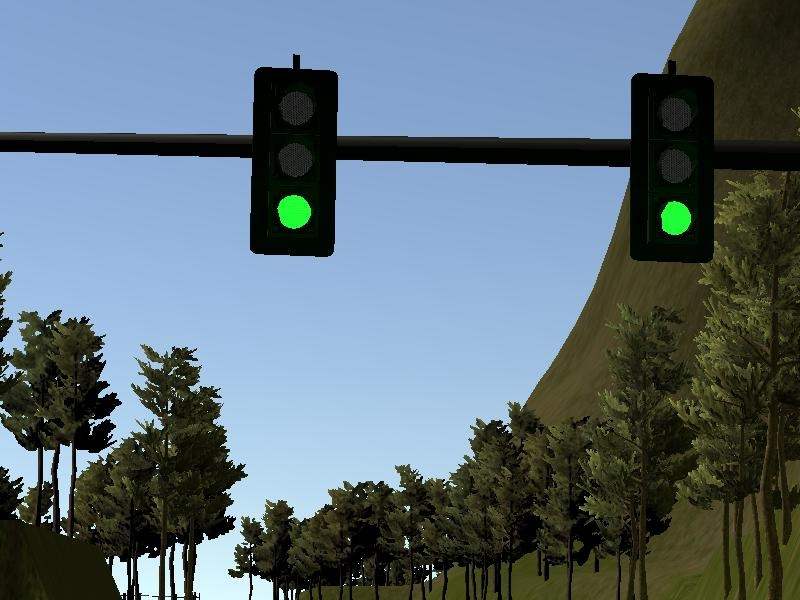green: (613, 65, 716, 265), (248, 59, 334, 268)
